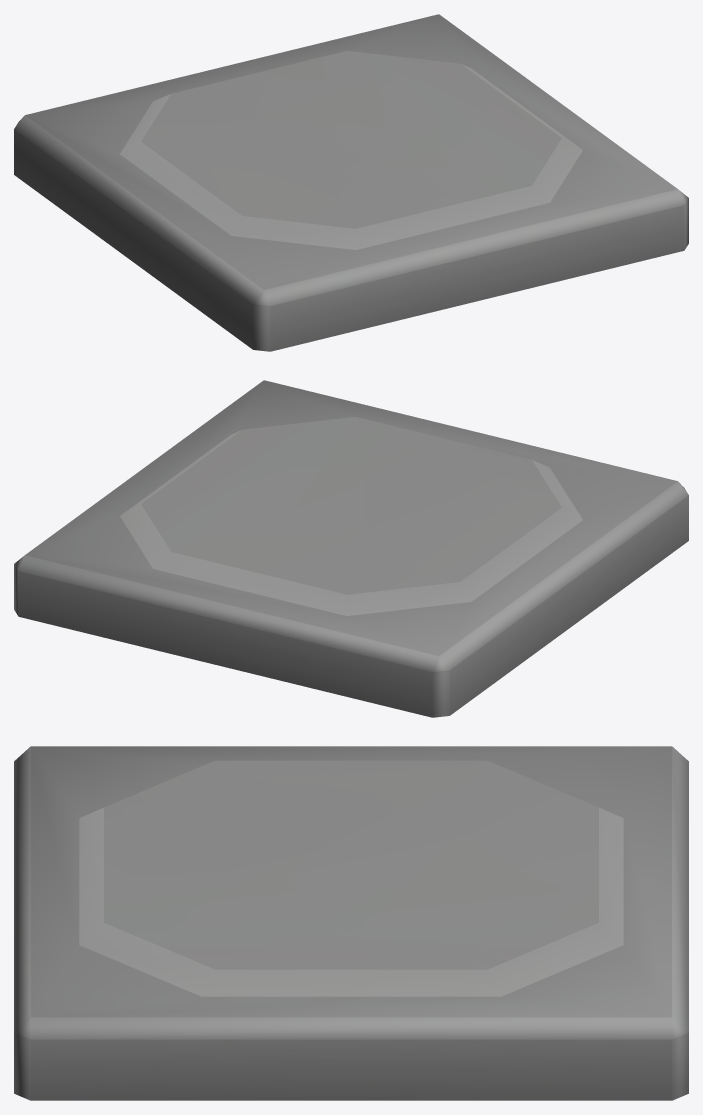
File: plinth_large.fbx
3 renders of one model, top to bottom at view 1: azimuth 30°, elevation 25°; view 2: azimuth 150°, elevation 25°; view 3: azimuth 270°, elevation 25°, orthographic. The views are drawn at different scales.
Visible parts, largest first — view 1: plinth_large; view 2: plinth_large; view 3: plinth_large.
Boxes of the visible parts, <box> form: plinth_large: <box>14,14,688,351</box>; plinth_large: <box>14,380,688,717</box>; plinth_large: <box>14,746,688,1100</box>.
Size of the model in its own units: 200 by 30.42 by 200.
